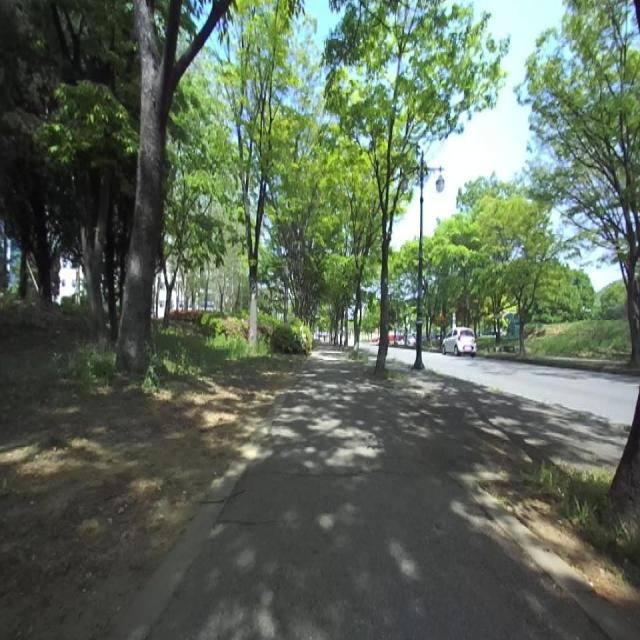sidewalk: (108, 345, 626, 640)
